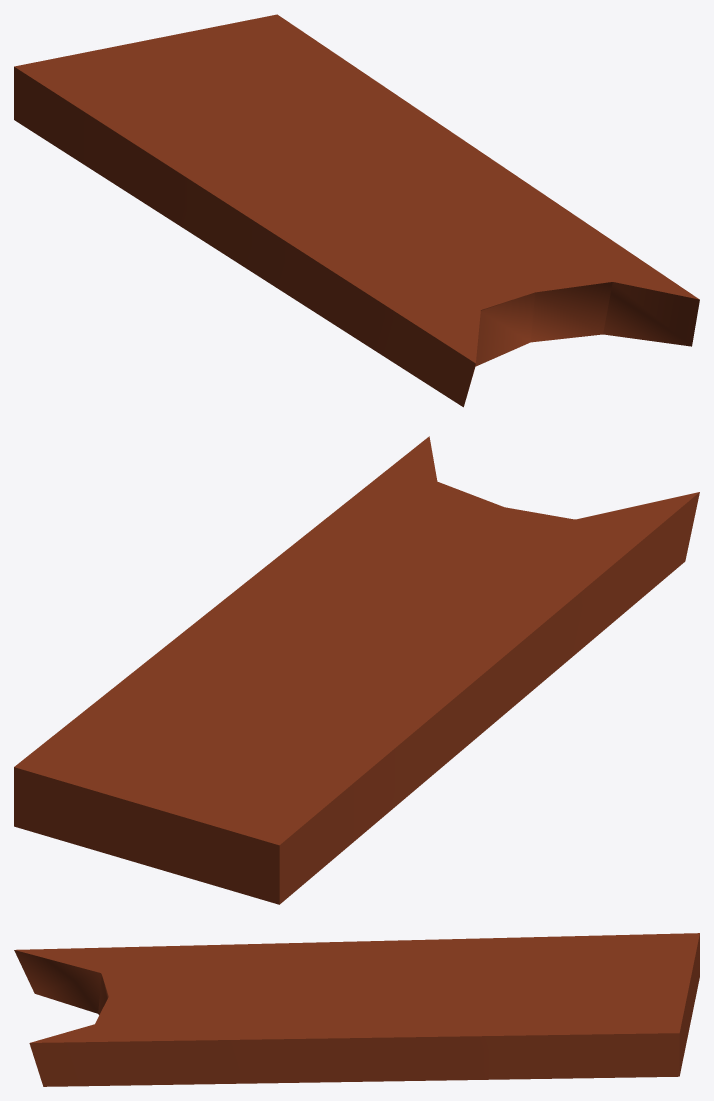
Rendered from BrokenBoard2.fbx.
3 views of the same model, one above another, from view 1: azimuth 30°, elevation 25°; view 2: azimuth 150°, elevation 25°; view 3: azimuth 270°, elevation 25° (orthographic). The views are drawn at different scales.
Visible parts, largest first — view 1: BrokenBoard.002; view 2: BrokenBoard.002; view 3: BrokenBoard.002.
Part boxes in pixels (x1,y1,x2,y2): BrokenBoard.002: (14, 14, 699, 407); BrokenBoard.002: (14, 436, 699, 904); BrokenBoard.002: (14, 933, 699, 1086).
Bounding box in the file's own units: 209 × 38.61 × 550.
